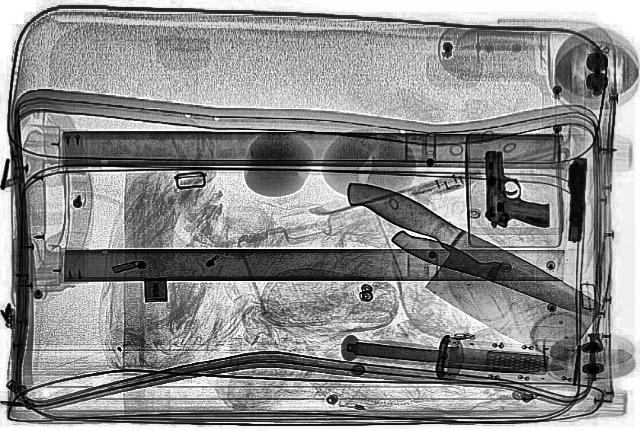Gun: (480, 150, 550, 228), (560, 158, 590, 242)
Knife: (293, 174, 632, 364), (382, 225, 612, 324), (348, 337, 566, 377)
